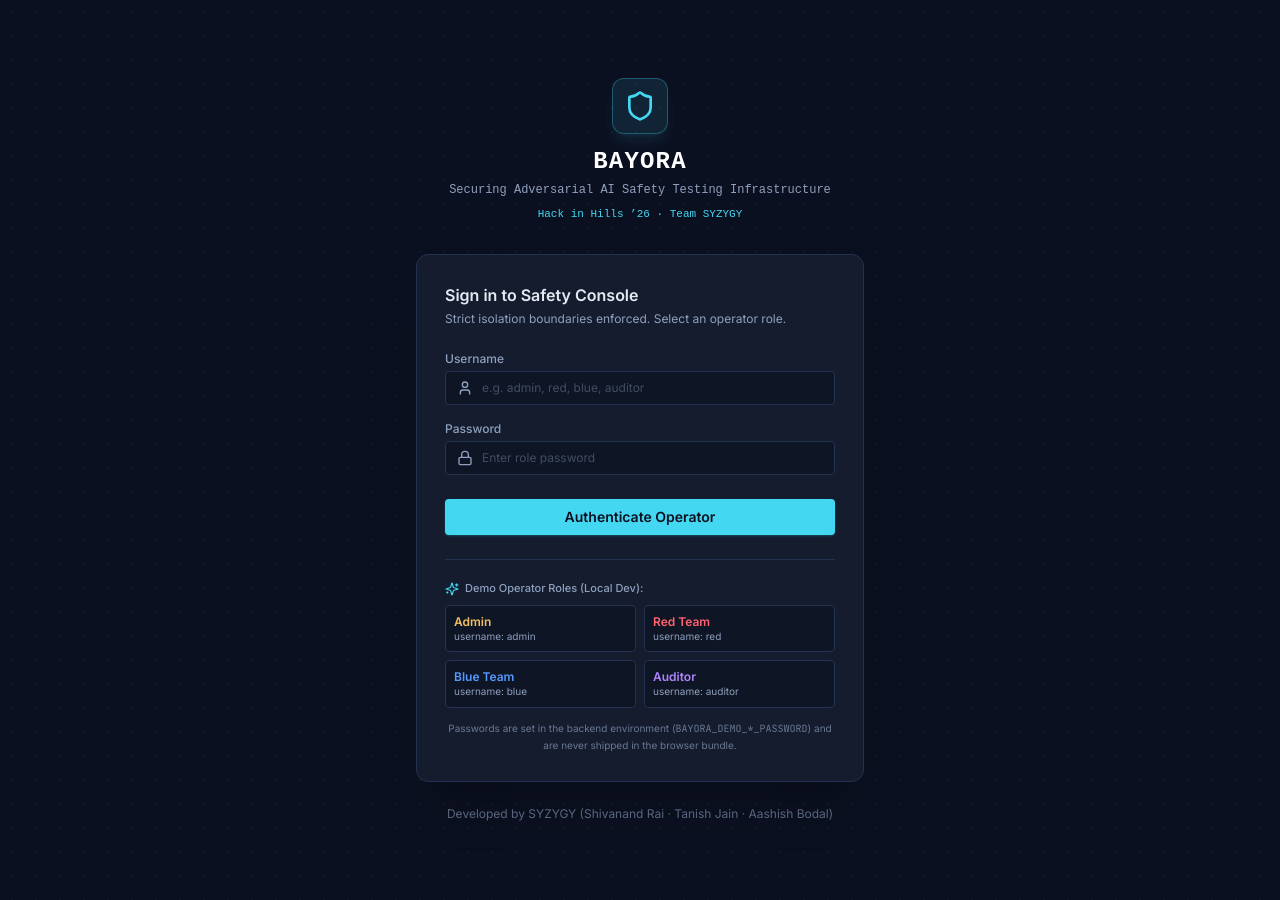
Scenario: Login Page › autofills the username when clicking a demo role button
Click the text "Red Team": [682, 621] box [653,614,710,629]
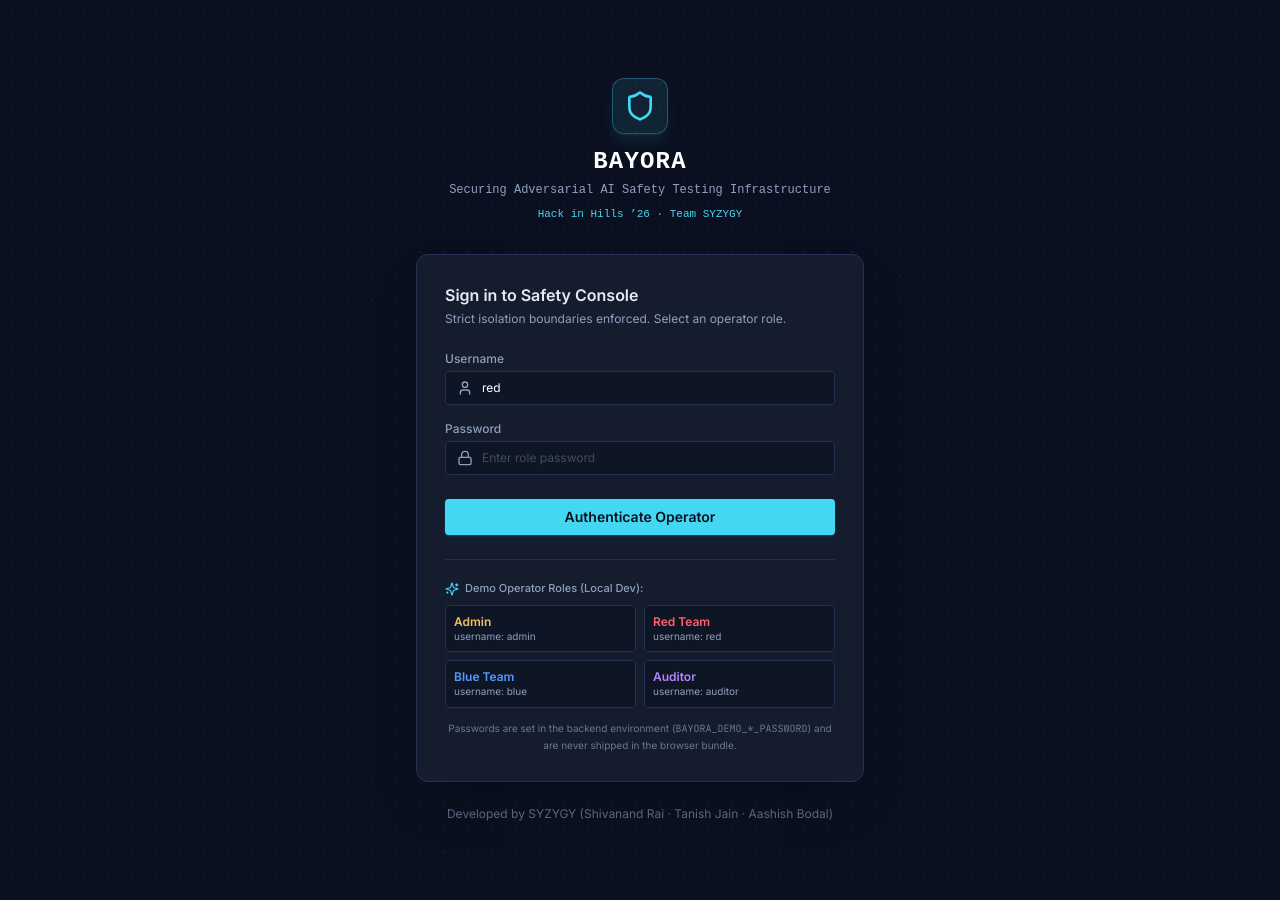
Expected: the password field with placeholder "Enter role password" is empty, [445,441,835,475]
Expected: the field with placeholder "e.g. admin, red, blue, auditor" holds "red", [445,371,835,405]
